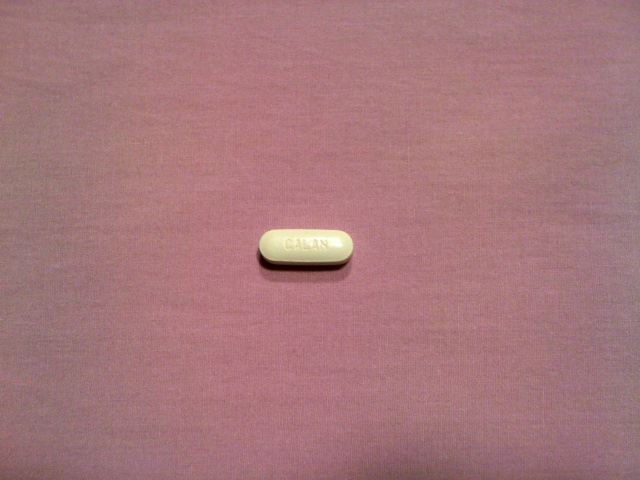A: (294, 237, 302, 253), (312, 237, 320, 253)
C: (283, 236, 294, 252)
L: (302, 237, 312, 253)
N: (320, 237, 329, 253)
